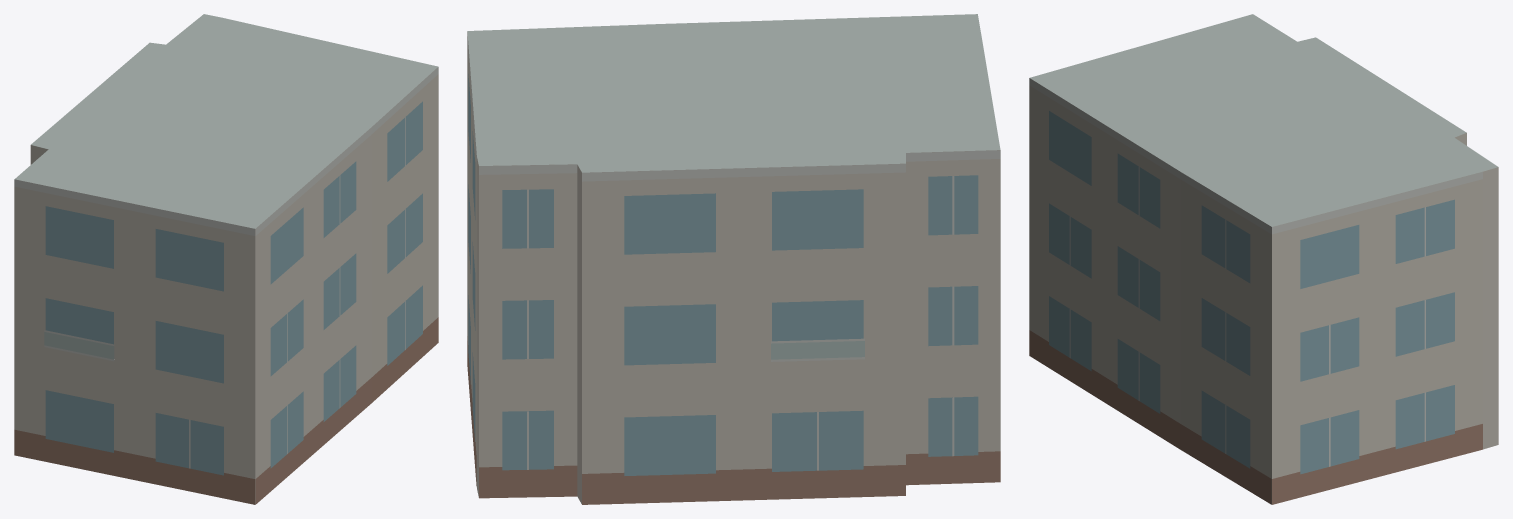
Rendered from survey-upis-32906656.glb.
3 views of the same model, side by side, from view 1: azimuth 30°, elevation 25°; view 2: azimuth 150°, elevation 25°; view 3: azimuth 270°, elevation 25° (orthographic). The views are drawn at different scales.
Visible parts, largest first — view 1: survey-upis-32906656.tmp; view 2: survey-upis-32906656.tmp; view 3: survey-upis-32906656.tmp.
Part boxes in pixels (box(x1,y1,x2,y2)): survey-upis-32906656.tmp: box(14, 14, 438, 504); survey-upis-32906656.tmp: box(467, 14, 1000, 504); survey-upis-32906656.tmp: box(1029, 14, 1498, 504).
Bounding box in the file's own units: 15.05 × 9.15 × 14.01.
